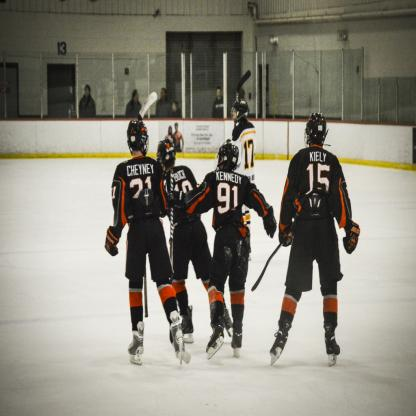Helmet: (306, 113, 335, 148), (126, 117, 148, 157), (216, 134, 240, 170), (156, 137, 177, 176)
